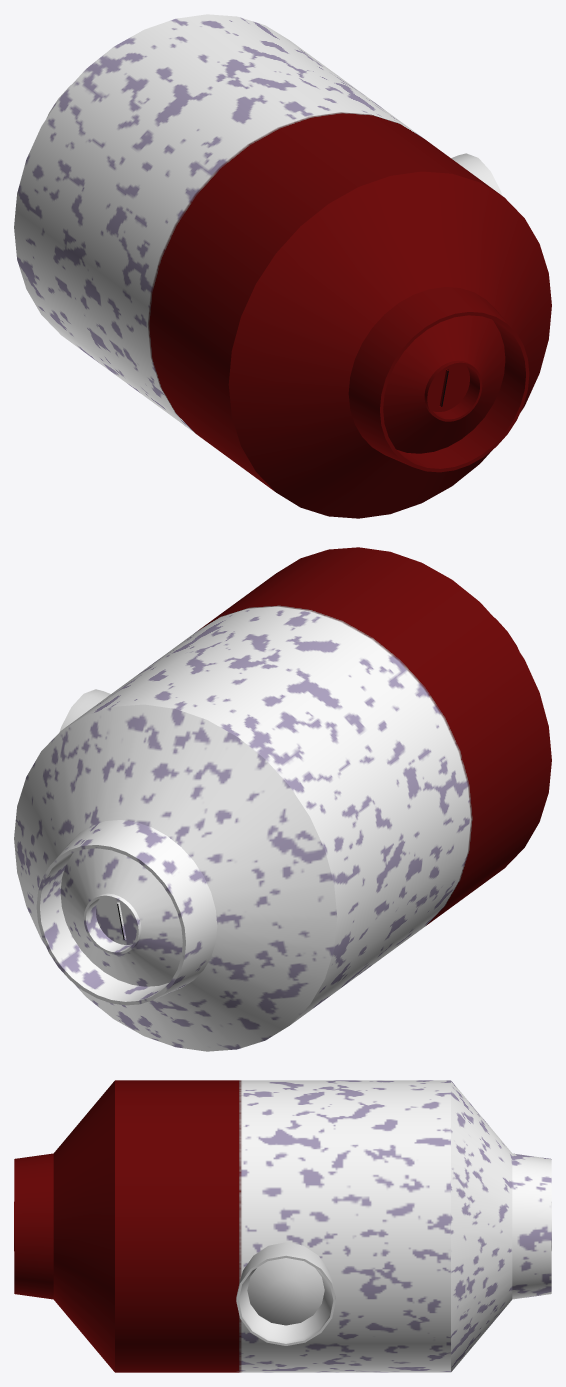
The model's file is Wardroom.glb.
3 views of the same model, one above another, from view 1: azimuth 30°, elevation 25°; view 2: azimuth 150°, elevation 25°; view 3: azimuth 270°, elevation 25° (orthographic). The views are drawn at different scales.
Visible parts, largest first — view 1: WardRoom Outer.001; view 2: WardRoom Outer.001; view 3: WardRoom Outer.001.
Part boxes in pixels (x1=…): WardRoom Outer.001: x1=14, y1=14, x2=551, y2=518; WardRoom Outer.001: x1=14, y1=547, x2=551, y2=1051; WardRoom Outer.001: x1=14, y1=1080, x2=551, y2=1372.
Size of the model in its own units: 1.91 by 1.72 by 3.17.
1 material, 1 textured.
